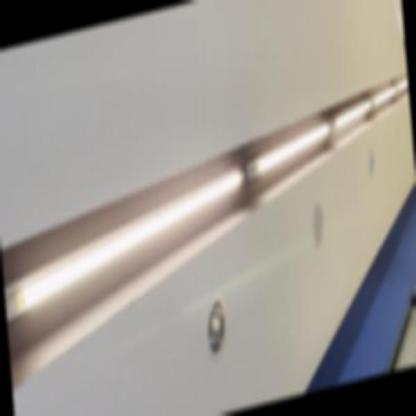light_on: (0, 138, 257, 348), (246, 119, 334, 186), (329, 98, 374, 138), (369, 80, 397, 111), (395, 71, 409, 99)
